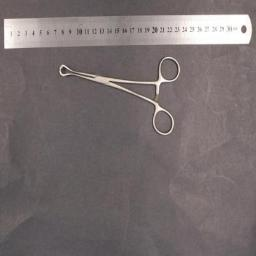Babcock Tissue Forceps: (58, 54, 180, 138)
